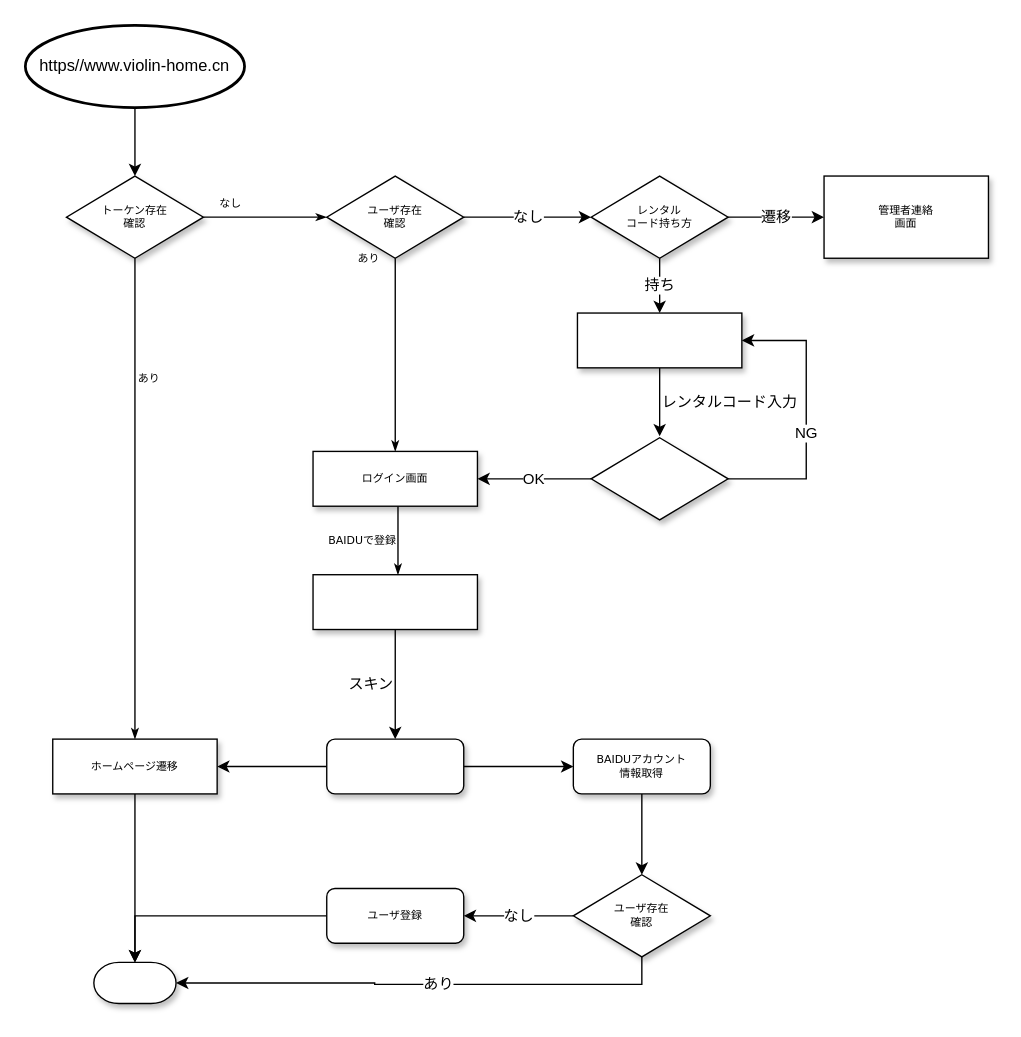
The diagram is 1021 pixels wide and 1037 high, and some of its shapes have lost their labels. Each missing label, with the centre of its shape:
"BAIDUで認証 トーケン発行" goes at [396,768].
"End" goes at [135,984].
"QRcode画面" goes at [396,603].
"レンタルコード 入力画面" goes at [660,341].
"レンタルコード 存在確認" goes at [660,480].
